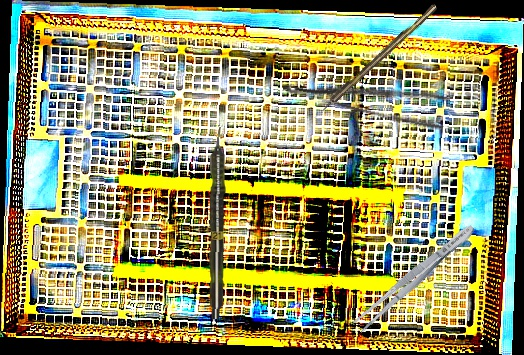Dressing Forceps: (350, 219, 480, 336), (281, 55, 452, 134)
Handpiece: (207, 126, 228, 320)
Hook Surgical: (311, 3, 439, 120)
